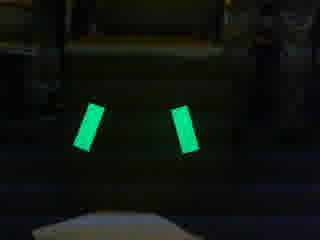target: (71, 99, 201, 157)
